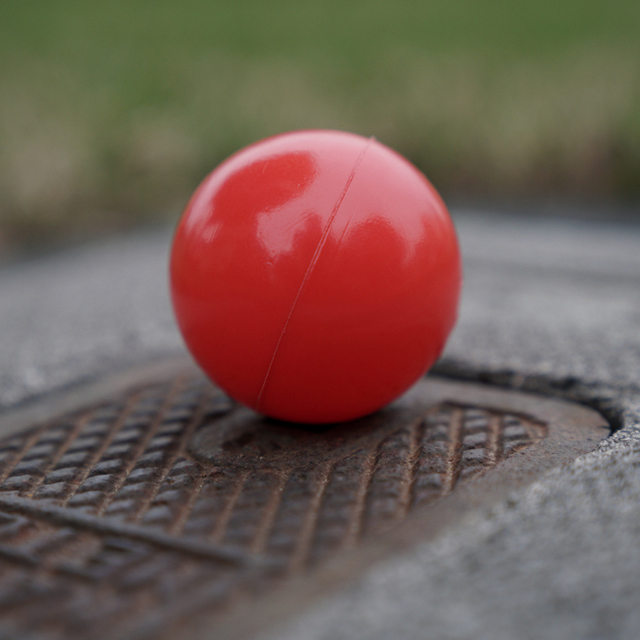Ball: (166, 132, 461, 428)
